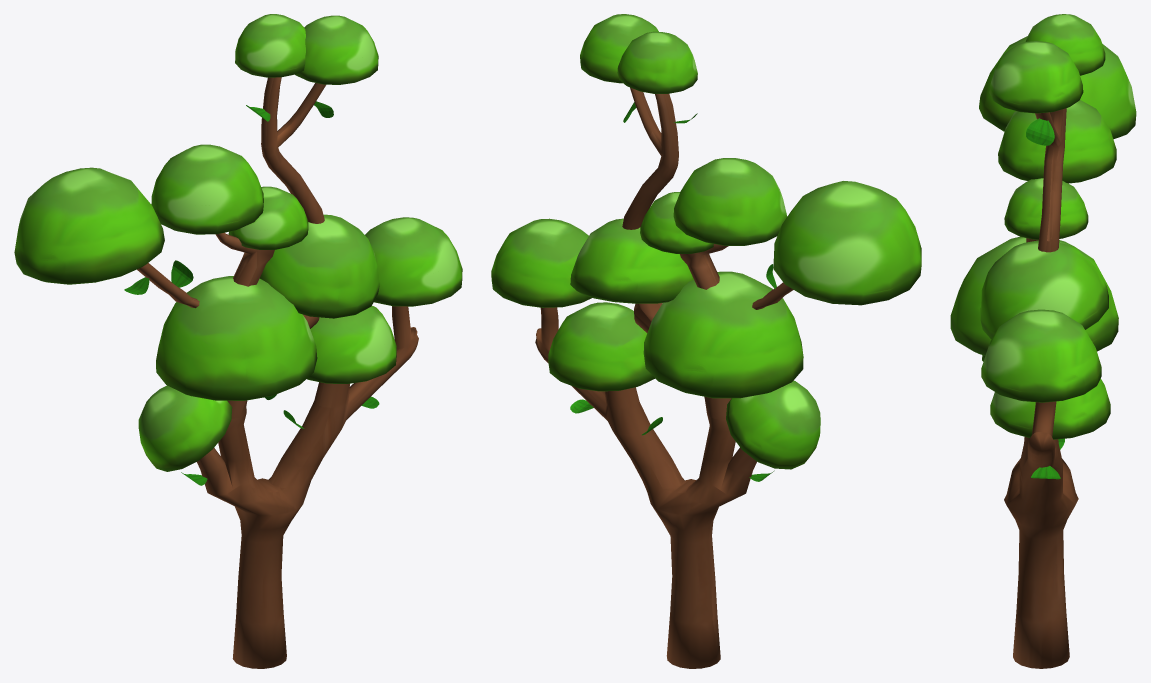
File: Arbol.fbx
3 views of the same model, side by side, from view 1: azimuth 30°, elevation 25°; view 2: azimuth 150°, elevation 25°; view 3: azimuth 270°, elevation 25° (orthographic). The views are drawn at different scales.
Visible parts, largest first — view 1: Cube.005; view 2: Cube.005; view 3: Cube.005.
Part boxes in pixels (box(x1,y1,x2,y2)): Cube.005: box(14, 14, 462, 668); Cube.005: box(491, 14, 921, 668); Cube.005: box(950, 14, 1136, 668).
Size of the model in its own units: 341 by 480 by 124.
